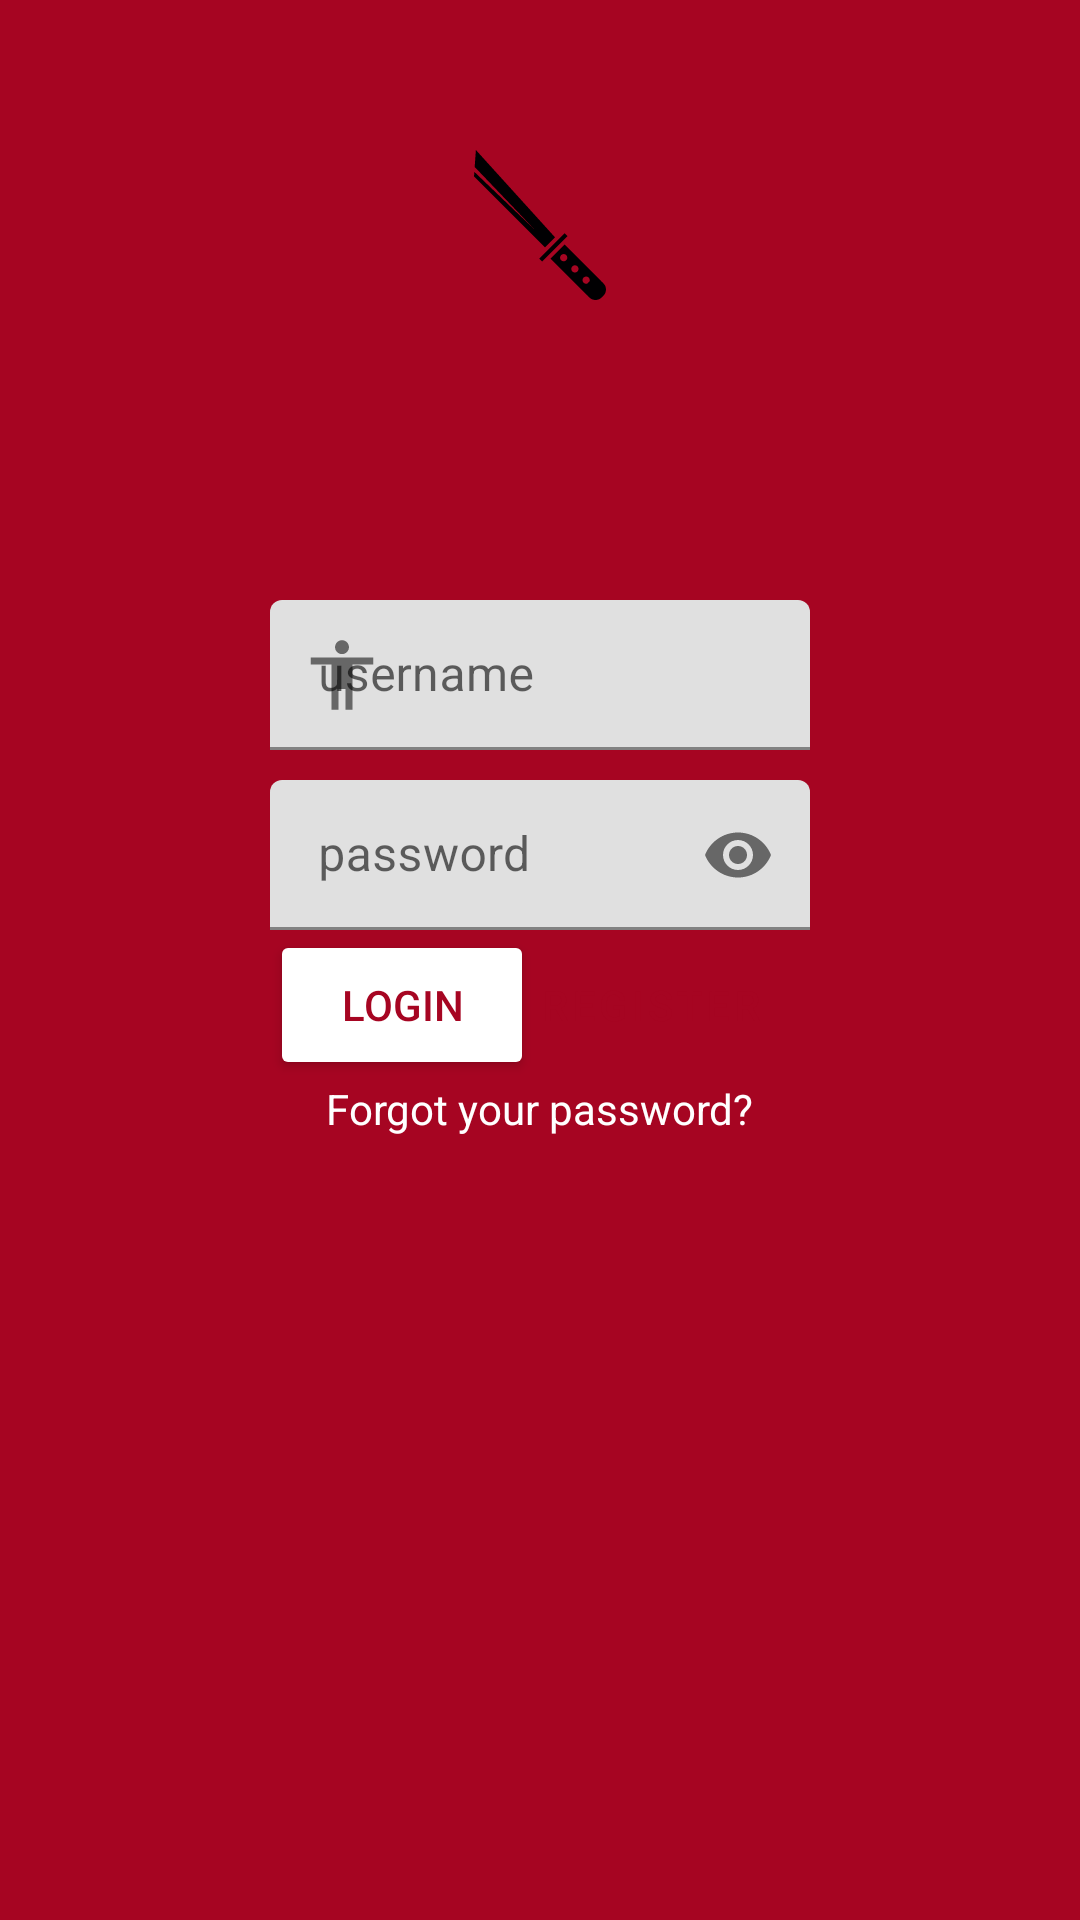

Named icons in this screenshot (1080px x 1920px) and their centers, point (x, y):
katana: point (540, 225)
